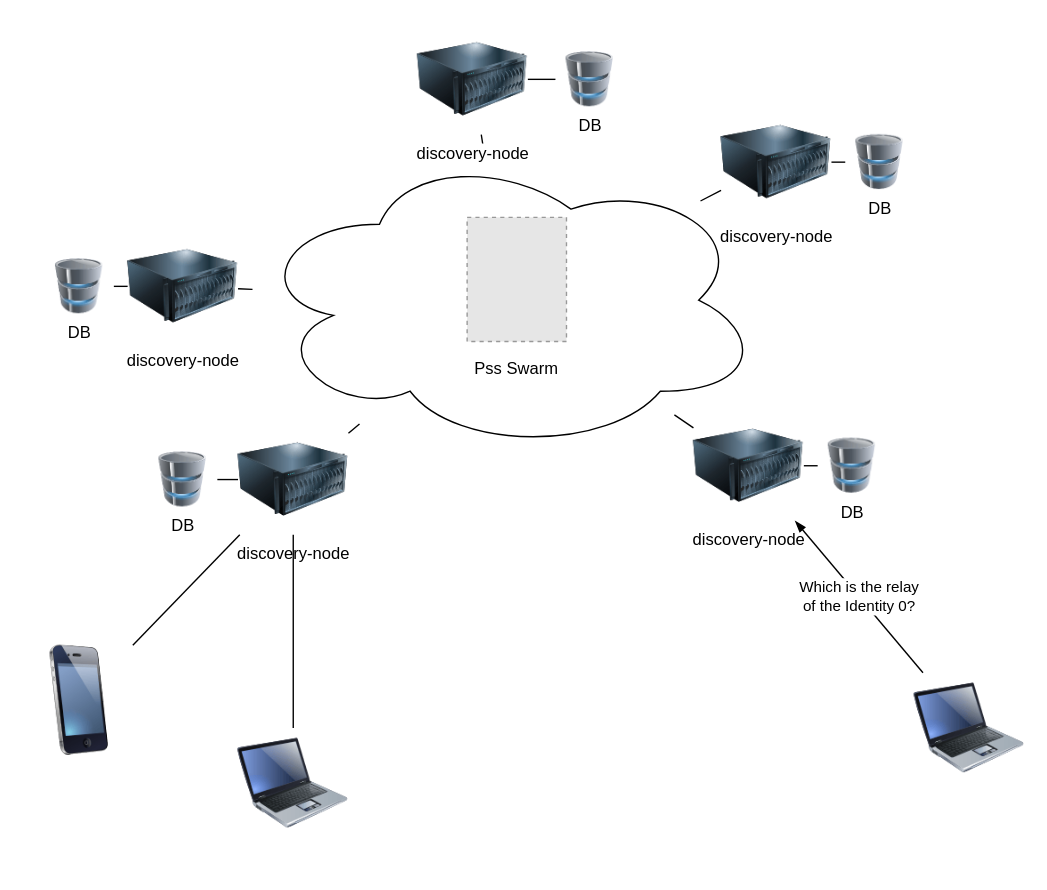
Some shapes in this 1047 by 890 pixel diagram are drawn without their labels. Grey dashed boxes stand in for pictures. Each missing label, with the box of its shape:
Identity 0: (23, 644, 134, 755)
Identity 1: (237, 727, 348, 838)
Identity 2: (914, 672, 1024, 782)
